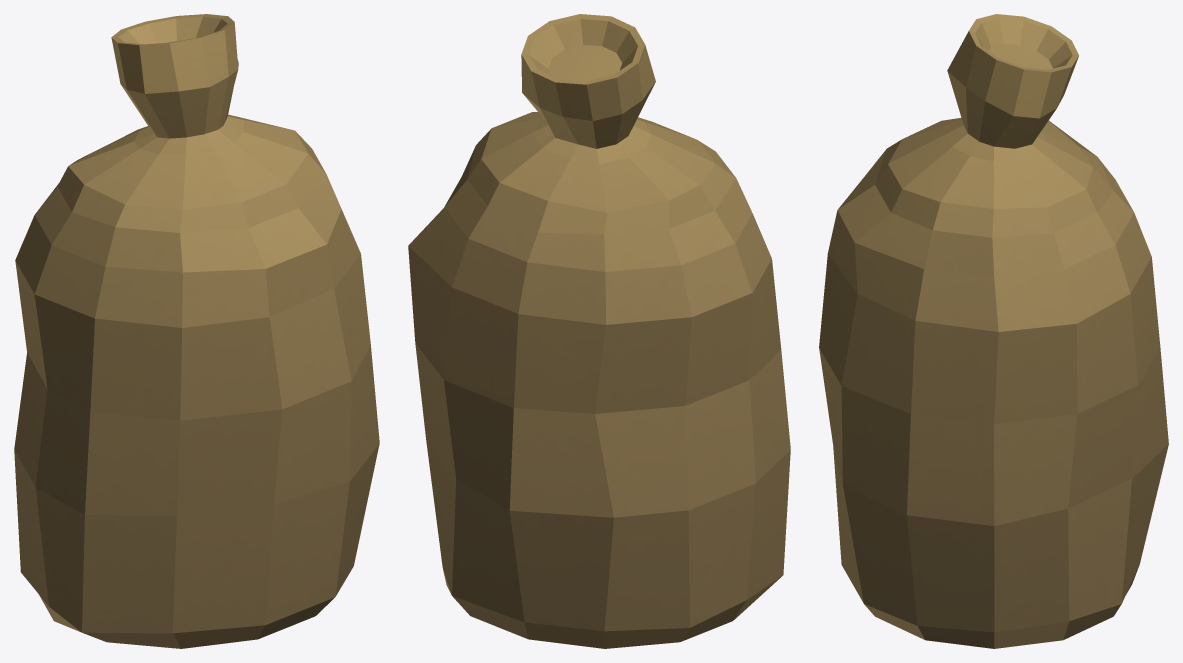
File: Sack_2.fbx
3 renders of one model, left to right at view 1: azimuth 30°, elevation 25°; view 2: azimuth 150°, elevation 25°; view 3: azimuth 270°, elevation 25°, orthographic.
Parts seen in each view (by area): view 1: polySurface6944; view 2: polySurface6944; view 3: polySurface6944.
Part boxes in pixels (x1=…): polySurface6944: x1=14, y1=14, x2=379, y2=648; polySurface6944: x1=408, y1=14, x2=790, y2=648; polySurface6944: x1=819, y1=14, x2=1168, y2=648.
Size of the model in its own units: 85.82 by 141 by 81.04.
